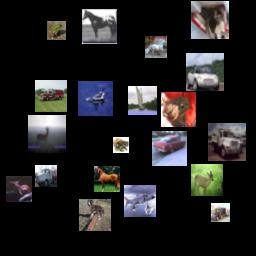airplane: (78, 81, 113, 116), (124, 185, 156, 217)
automobile: (186, 53, 224, 91), (152, 131, 187, 166)
cat: (191, 1, 229, 39)
deer: (28, 115, 66, 153), (191, 164, 223, 196), (6, 176, 32, 202)
dog: (79, 199, 111, 231)
frog: (161, 92, 196, 127), (47, 21, 66, 40), (113, 137, 129, 153)
ship: (128, 86, 157, 115)
truck: (208, 123, 246, 161), (35, 80, 67, 112), (35, 165, 57, 187), (211, 203, 230, 222)
